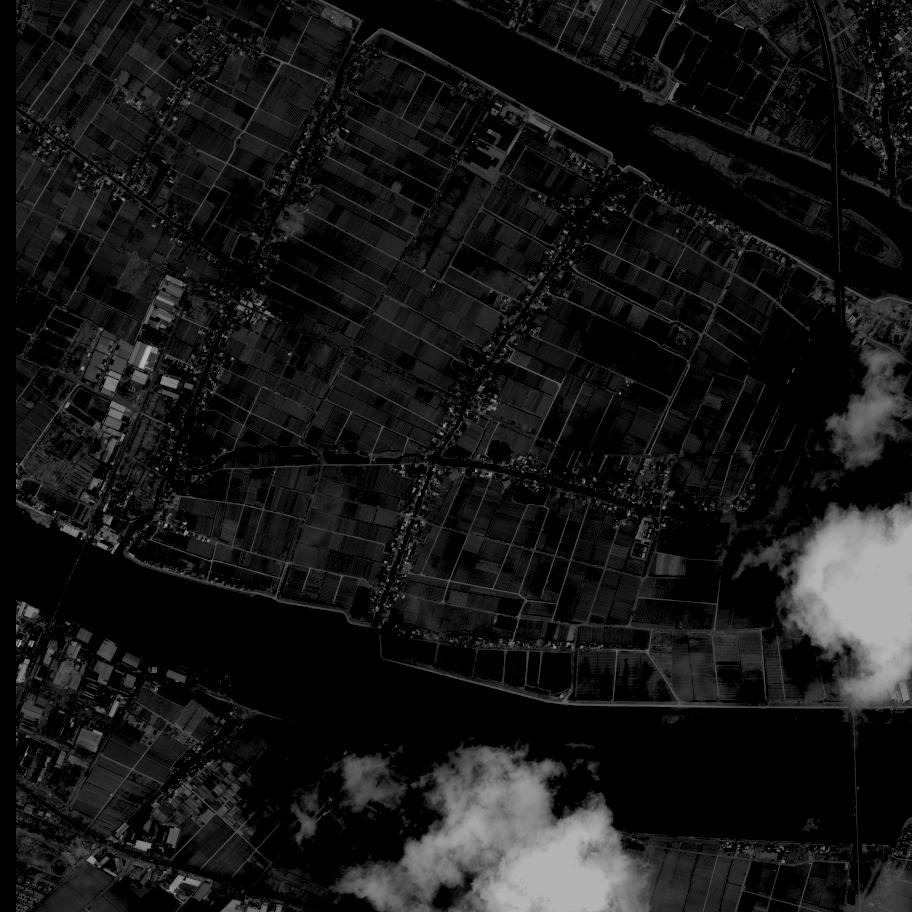ship: (221, 677, 237, 684), (199, 668, 210, 675), (219, 683, 228, 691), (150, 667, 158, 675), (225, 675, 234, 680), (149, 666, 153, 672), (147, 667, 150, 672), (201, 669, 210, 670), (153, 672, 155, 676)
